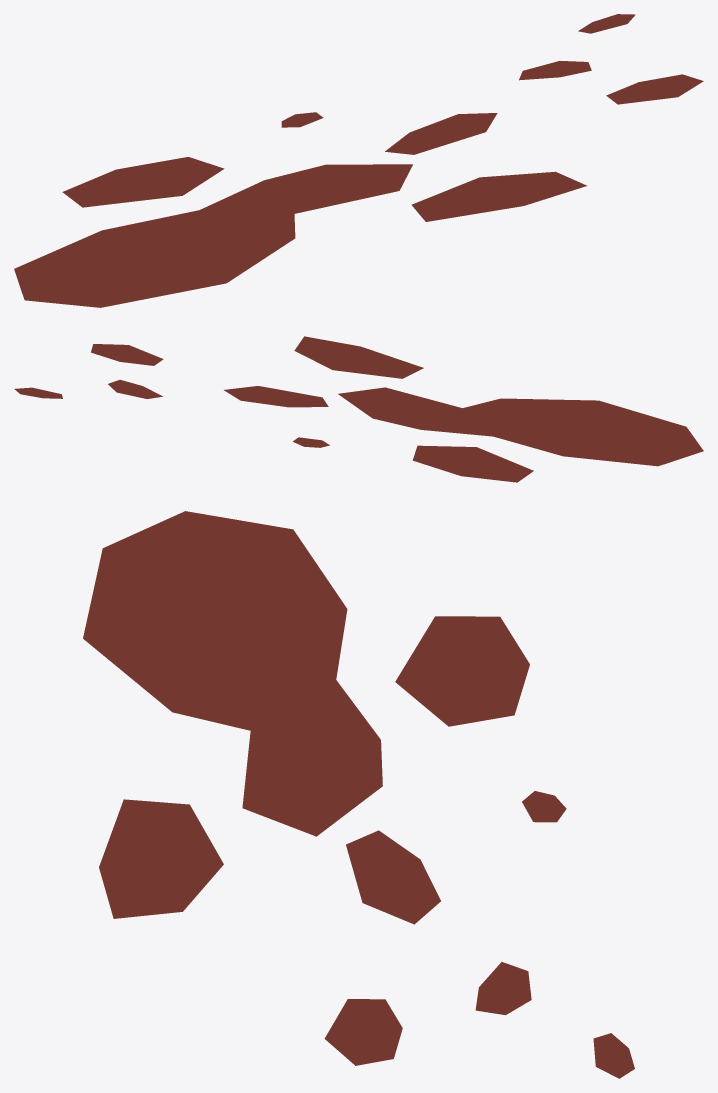
The model's file is SD_Prop_BloodSplat_03.fbx.
3 views of the same model, one above another, from view 1: azimuth 30°, elevation 25°; view 2: azimuth 150°, elevation 25°; view 3: azimuth 270°, elevation 25° (orthographic). The views are drawn at different scales.
Parts seen in each view (by area): view 1: SD_Prop_BloodSplat_03; view 2: SD_Prop_BloodSplat_03; view 3: SD_Prop_BloodSplat_03.
Part boxes in pixels (bbox=[...]): SD_Prop_BloodSplat_03: bbox=[14, 14, 703, 307]; SD_Prop_BloodSplat_03: bbox=[14, 336, 703, 482]; SD_Prop_BloodSplat_03: bbox=[83, 511, 634, 1078].
Size of the model in its own units: 1.11 by 0.000299 by 0.4567.
